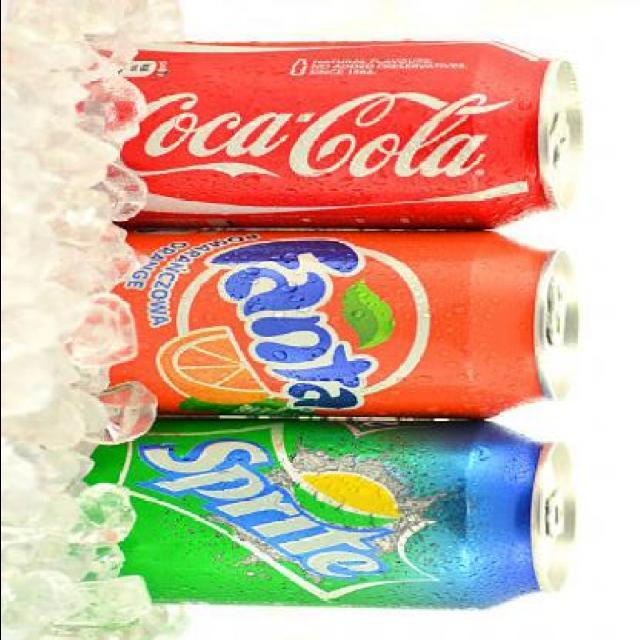Coke: (63, 32, 586, 224)
Fanta: (68, 223, 582, 422)
